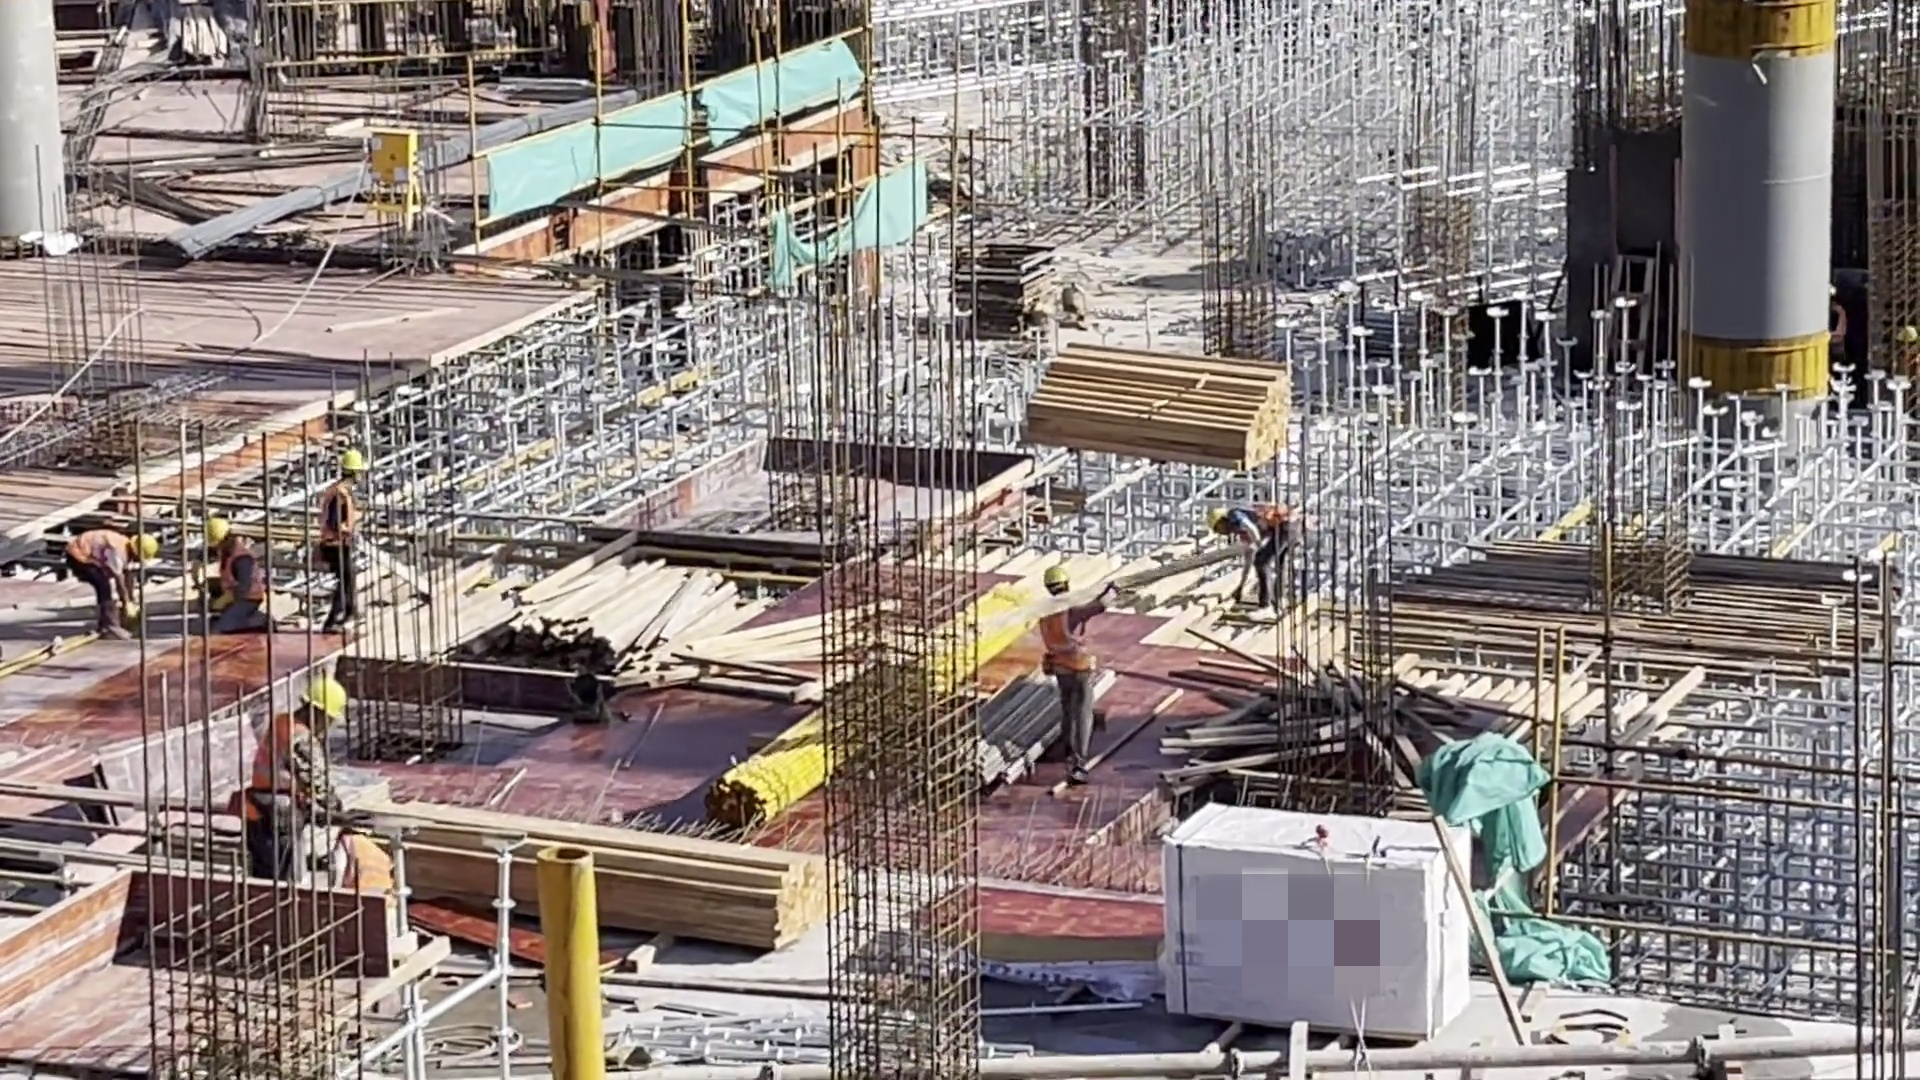helmet: (308, 665, 349, 716), (1027, 554, 1076, 594), (1210, 498, 1240, 551), (333, 444, 374, 477), (199, 515, 236, 549), (137, 517, 157, 558)
person: (243, 656, 338, 879), (1026, 556, 1106, 787), (1194, 490, 1304, 619), (50, 526, 166, 645), (185, 514, 281, 638), (319, 442, 376, 632), (327, 824, 405, 914)
vest: (243, 710, 321, 807), (62, 528, 137, 573), (1037, 604, 1086, 673), (216, 545, 259, 593), (321, 488, 358, 539), (1237, 502, 1288, 534), (349, 835, 379, 885)
